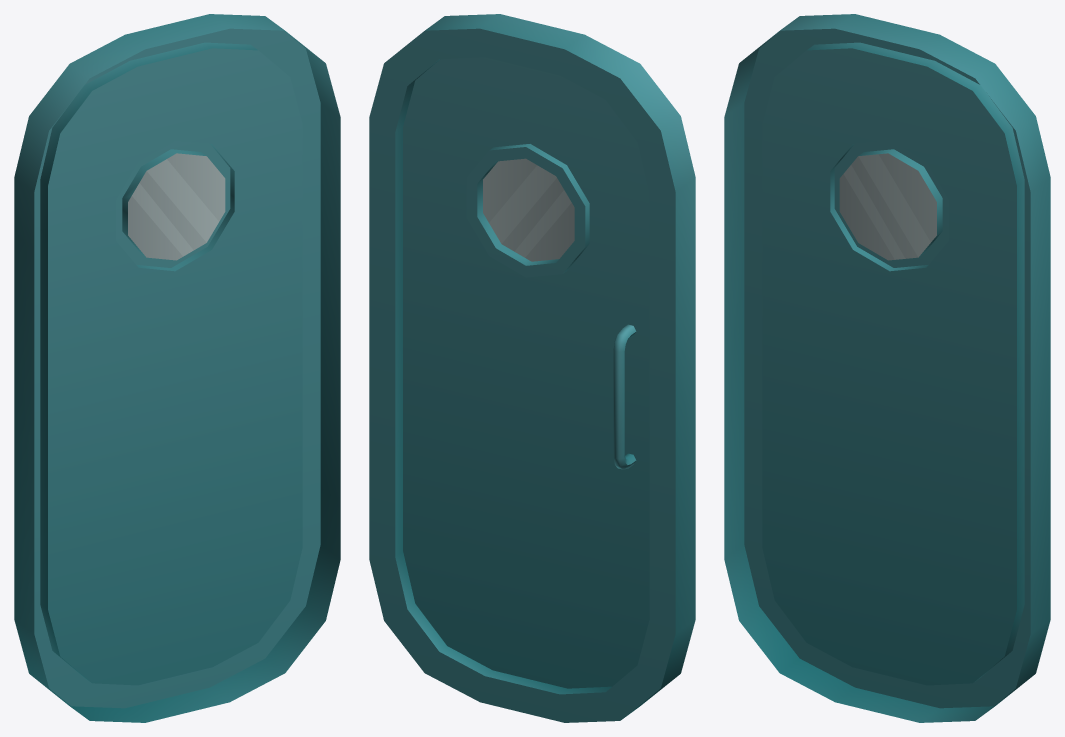
File: squidgame_props_door1.fbx
3 renders of one model, left to right at view 1: azimuth 30°, elevation 25°; view 2: azimuth 150°, elevation 25°; view 3: azimuth 330°, elevation 25°, orthographic.
Visible parts, largest first — view 1: squidgame_props_door1; view 2: squidgame_props_door1; view 3: squidgame_props_door1.
Boxes of the visible parts, x1,y1,x2,y2 form: squidgame_props_door1: [14, 14, 340, 722]; squidgame_props_door1: [369, 14, 695, 722]; squidgame_props_door1: [724, 14, 1050, 722].
Size of the model in its own units: 1 by 2.1 by 0.15.
